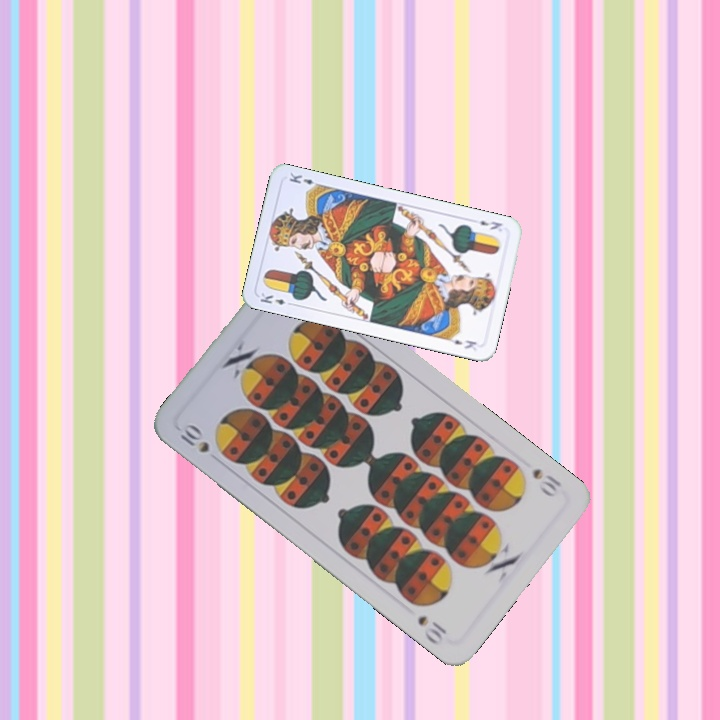EK: (256, 289, 296, 308), (476, 216, 505, 232)
S10: (176, 420, 212, 456), (528, 464, 564, 500)
